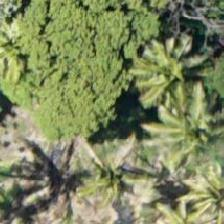coconut_tree: (65, 123, 155, 213), (134, 31, 223, 121), (146, 83, 223, 173), (0, 61, 49, 151), (0, 0, 48, 75)
